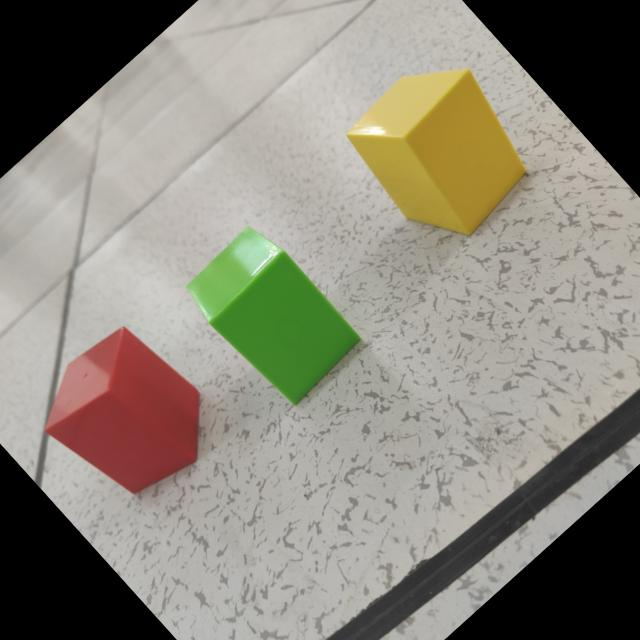green: (187, 226, 363, 405)
red: (45, 327, 203, 494)
yellow: (347, 68, 528, 237)
